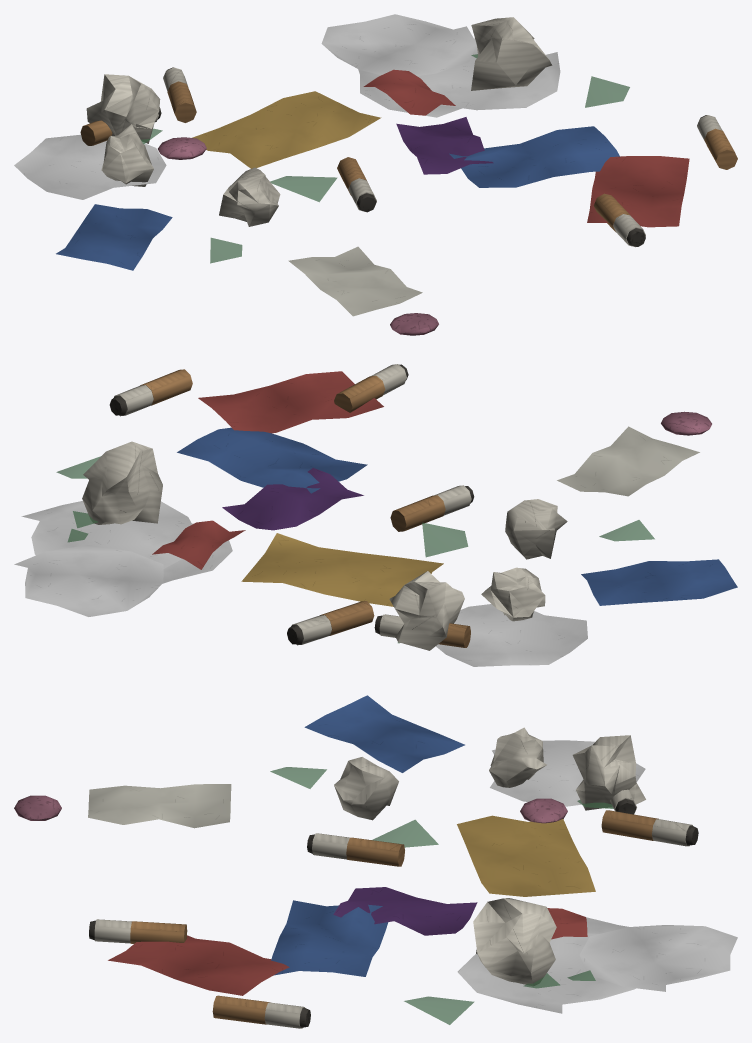
Rendered from litter_pile.glb.
The picture shows the model from 3 angles, top to bottom: view 1: azimuth 30°, elevation 25°; view 2: azimuth 150°, elevation 25°; view 3: azimuth 270°, elevation 25°; orthographic projection. The views are drawn at different scales.
Parts seen in each view (by area): view 1: litter_pile, crumpled_paper_17, crumpled_paper_15, crumpled_paper_11, crumpled_paper_13, group_20, group_35, group_40, group_30, group_25; view 2: litter_pile, crumpled_paper_17, crumpled_paper_15, crumpled_paper_11, crumpled_paper_13, group_30, group_40, group_35, group_20, group_25; view 3: litter_pile, crumpled_paper_17, crumpled_paper_15, crumpled_paper_11, crumpled_paper_13, group_40, group_35, group_30, group_20.
Boxes of the visible parts, <box> form: litter_pile: <box>14,14,689,335</box>; crumpled_paper_17: <box>471,17,552,90</box>; crumpled_paper_15: <box>86,74,160,143</box>; crumpled_paper_11: <box>219,167,280,226</box>; crumpled_paper_13: <box>101,124,153,186</box>; group_20: <box>593,193,645,247</box>; group_35: <box>697,115,737,169</box>; group_40: <box>337,157,376,212</box>; group_30: <box>163,67,196,122</box>; group_25: <box>80,107,161,145</box>; litter_pile: <box>14,371,737,666</box>; crumpled_paper_17: <box>82,441,162,524</box>; crumpled_paper_15: <box>389,571,464,650</box>; crumpled_paper_11: <box>505,499,567,559</box>; crumpled_paper_13: <box>481,567,545,621</box>; group_30: <box>287,601,374,645</box>; group_40: <box>390,485,474,531</box>; group_35: <box>109,369,192,416</box>; group_20: <box>334,364,408,412</box>; group_25: <box>374,614,470,647</box>; litter_pile: <box>14,695,737,1024</box>; crumpled_paper_17: <box>473,898,556,985</box>; crumpled_paper_15: <box>572,735,645,810</box>; crumpled_paper_11: <box>334,757,398,820</box>; crumpled_paper_13: <box>489,727,546,787</box>; group_40: <box>307,833,404,866</box>; group_35: <box>212,995,310,1028</box>; group_30: <box>601,810,698,846</box>; group_20: <box>89,919,187,943</box>.
Size of the model in its own units: 25.71 by 3.15 by 24.06.
11 materials, 10 textured.
